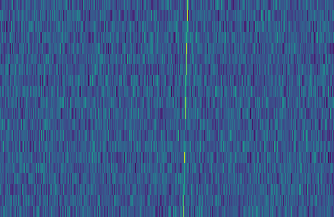signal: (178, 0, 192, 217)
